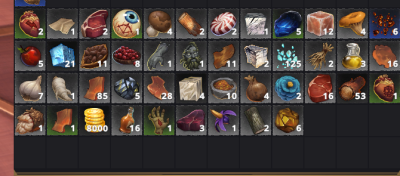ash log: (240, 106, 270, 136)
aurelium ore: (273, 105, 302, 135)
chaos ember: (369, 8, 400, 38)
durable hide: (208, 40, 239, 71)
ethereal dust: (273, 41, 304, 72)
gold: (79, 105, 109, 135)
limestone stone: (241, 41, 271, 72)
marble stone: (241, 8, 271, 38)
oak log: (175, 8, 206, 38)
soft hide: (368, 40, 399, 70)
strong hide: (79, 72, 110, 102), (47, 105, 77, 135)
tin ore: (113, 73, 142, 102)
tough hide: (144, 73, 174, 103)
travertine stone: (175, 73, 207, 103)
